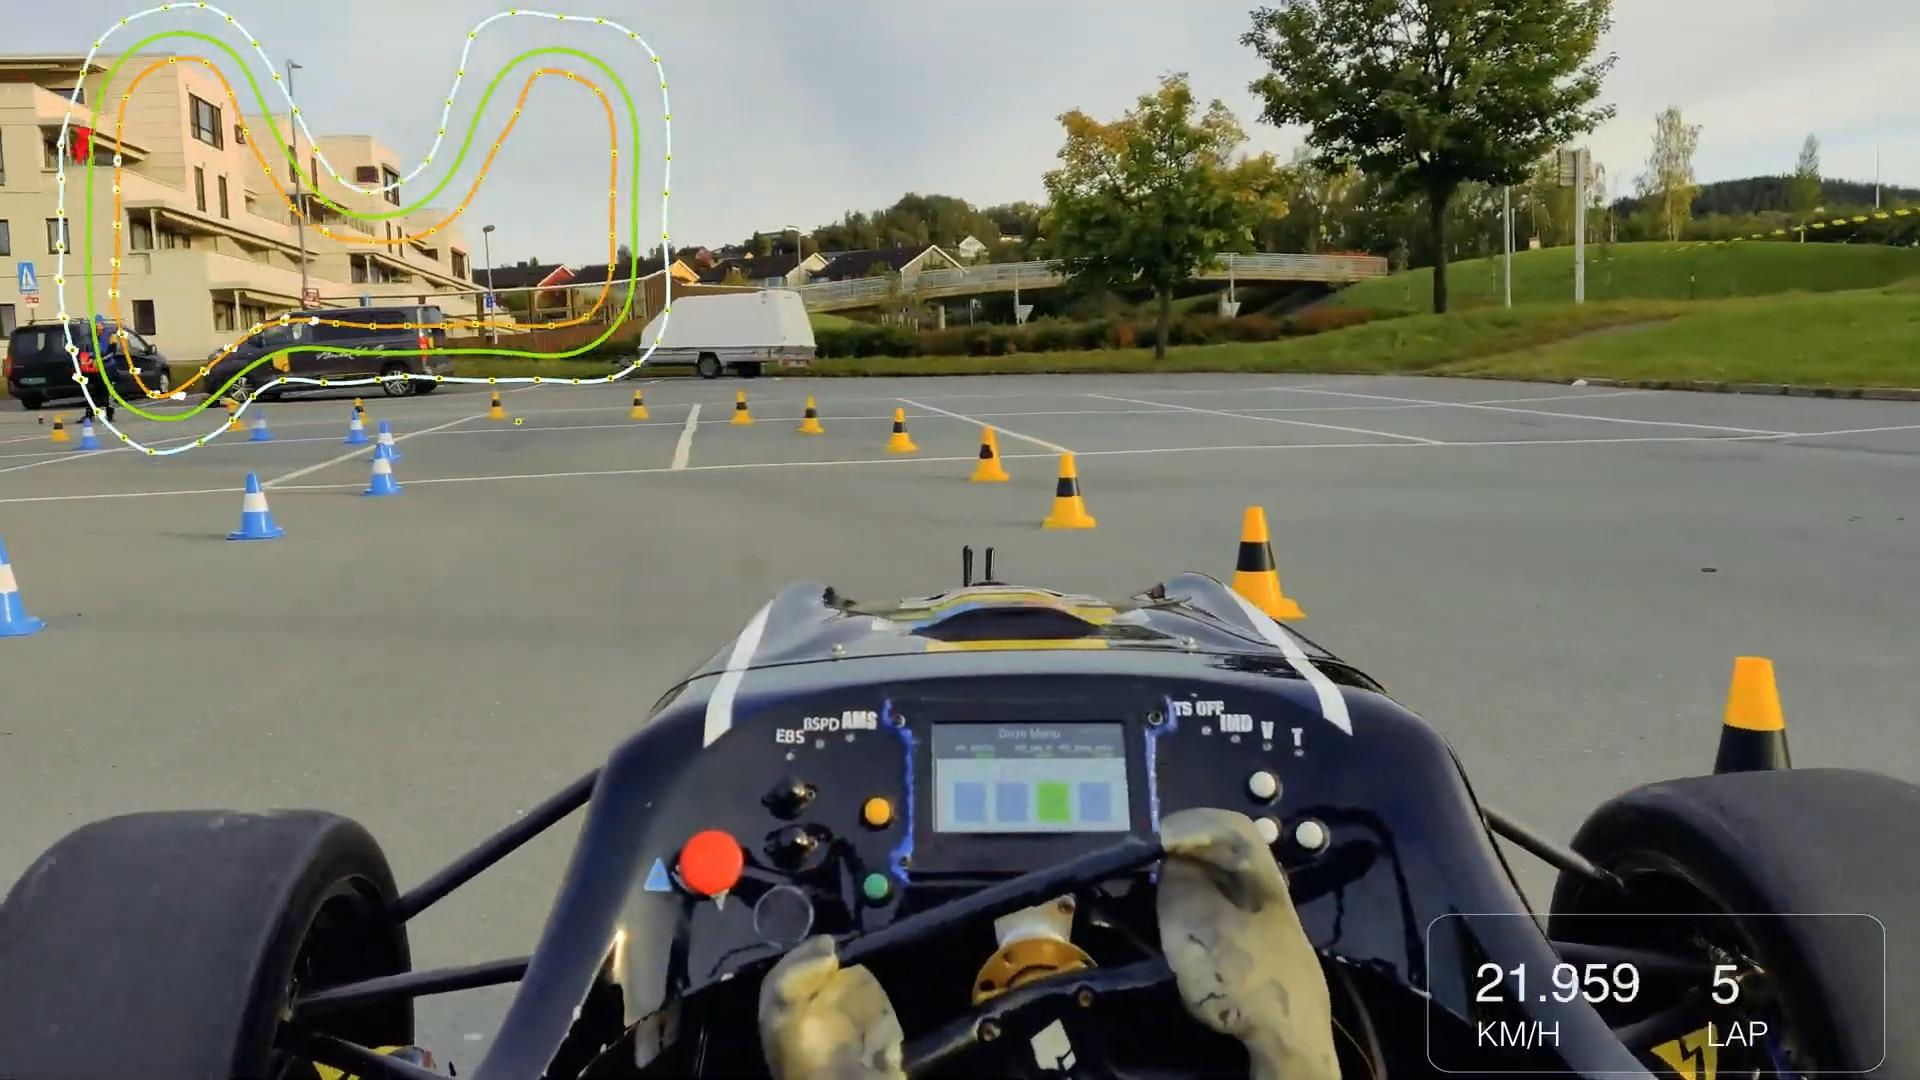blue_cone: (0, 520, 54, 642), (225, 469, 293, 541), (361, 442, 404, 495), (375, 419, 404, 462), (343, 410, 368, 450), (78, 417, 105, 451), (251, 407, 276, 440)
yellow_cone: (1659, 651, 1826, 916), (1216, 506, 1305, 625), (1046, 450, 1102, 531), (971, 422, 1007, 487), (884, 406, 918, 454), (796, 396, 827, 435), (729, 390, 757, 427), (487, 390, 512, 426), (630, 388, 653, 422), (46, 410, 69, 443), (352, 397, 371, 433), (225, 401, 245, 434)
